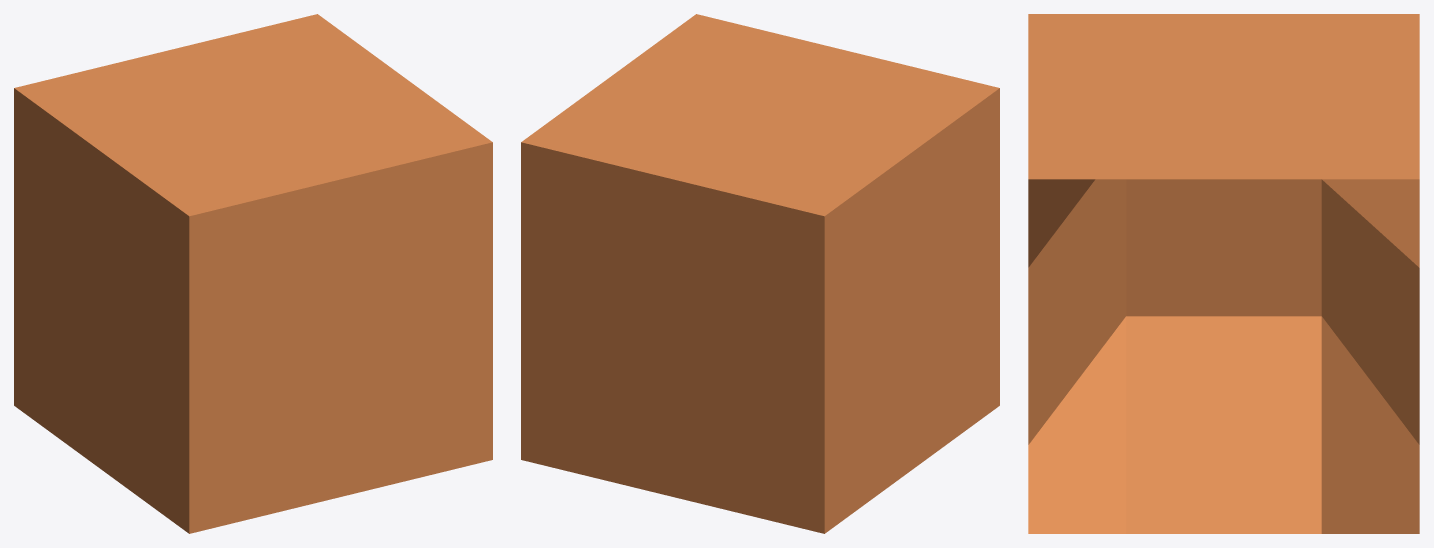
File: csve.fbx
The picture shows the model from 3 angles, left to right: view 1: azimuth 30°, elevation 25°; view 2: azimuth 150°, elevation 25°; view 3: azimuth 270°, elevation 25°; orthographic projection. The views are drawn at different scales.
Parts seen in each view (by area): view 1: Cube; view 2: Cube; view 3: Cube.
Part boxes in pixels (x1,y1,x2,y2): Cube: (14,14,492,533); Cube: (521,14,999,533); Cube: (1028,14,1419,533).
Bounding box in the file's own units: 200 × 200 × 200.
